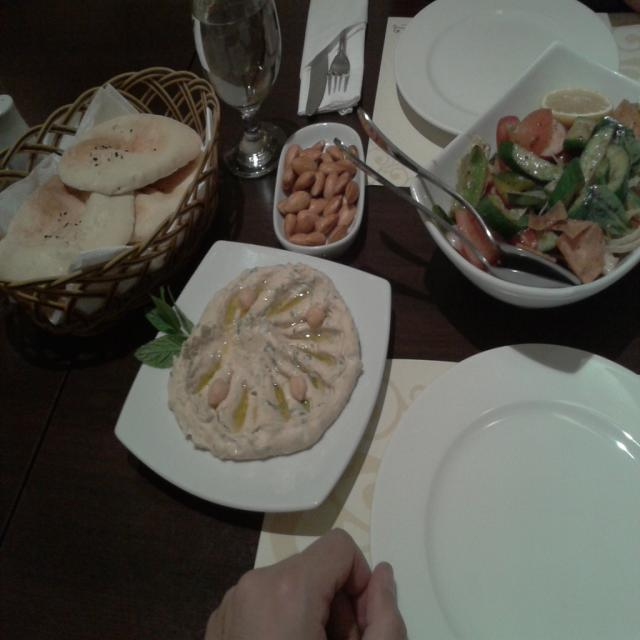non-organic waste: (79, 200, 419, 532)
